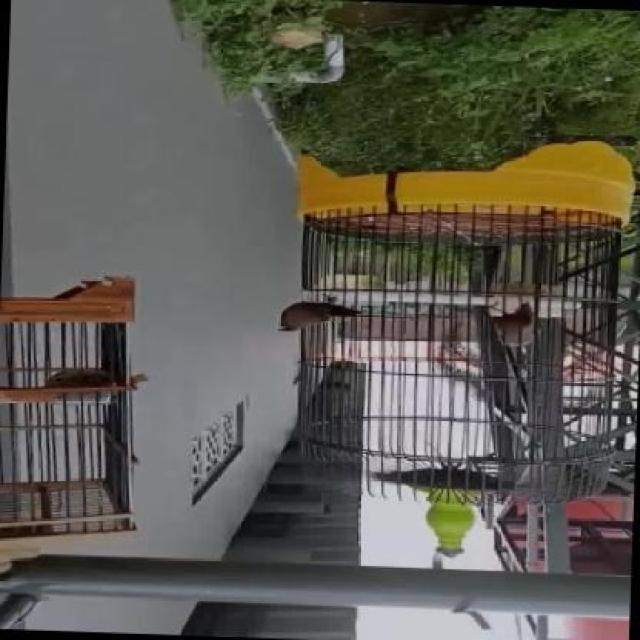Bird: (269, 285, 356, 346), (472, 292, 537, 346)
